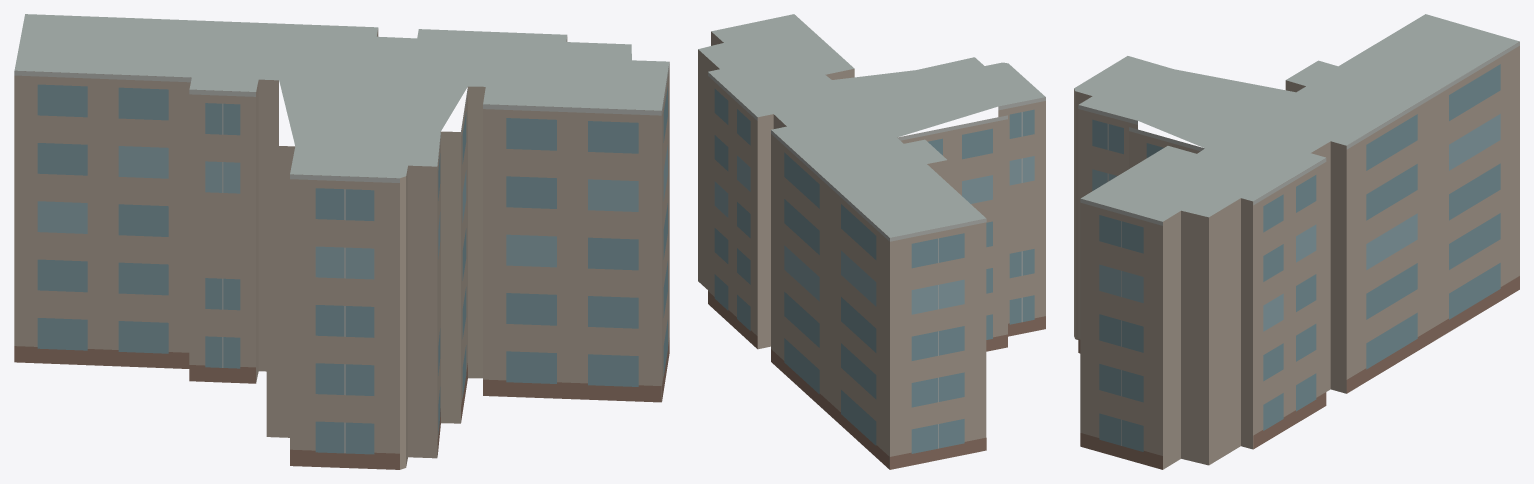
File: survey-upis-32525554.glb
3 renders of one model, left to right at view 1: azimuth 30°, elevation 25°; view 2: azimuth 150°, elevation 25°; view 3: azimuth 270°, elevation 25°, orthographic. The views are drawn at different scales.
Parts seen in each view (by area): view 1: survey-upis-32525554.tmp; view 2: survey-upis-32525554.tmp; view 3: survey-upis-32525554.tmp.
Part boxes in pixels (x1=…): survey-upis-32525554.tmp: x1=14, y1=14, x2=669, y2=469; survey-upis-32525554.tmp: x1=698, y1=14, x2=1045, y2=469; survey-upis-32525554.tmp: x1=1074, y1=14, x2=1519, y2=469.
Size of the model in its own units: 26.32 by 14.65 by 23.87.
